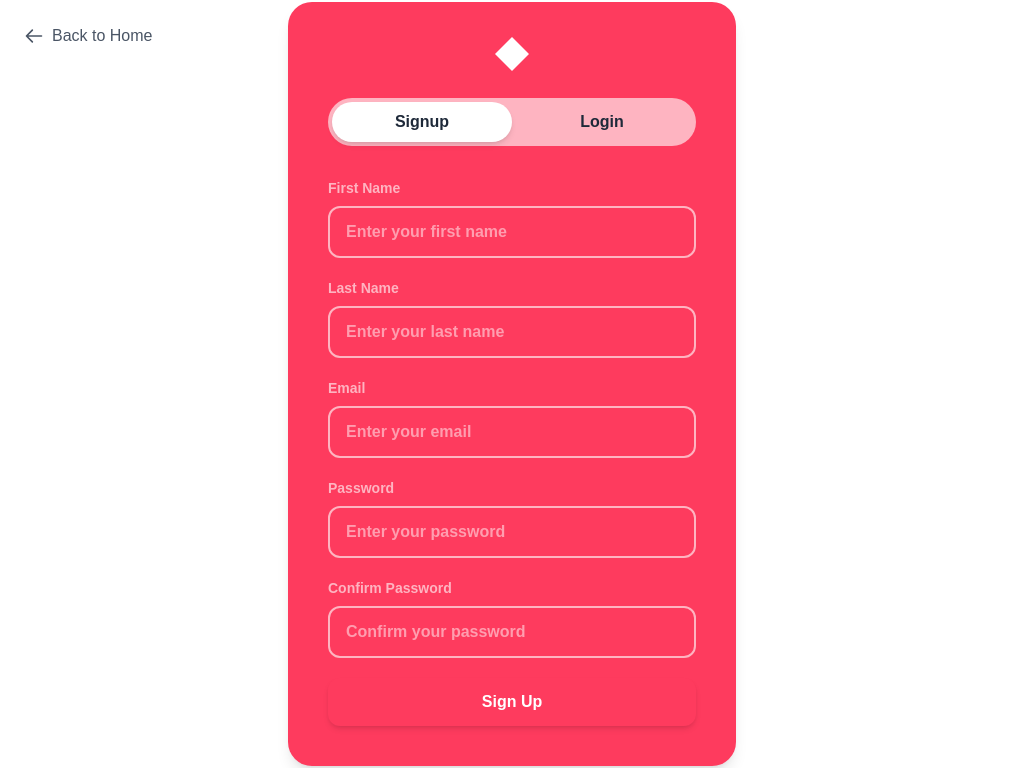
Test: RegisterPage › TC-083 [S-01]: on success, shows the confirmation message and a Verify My Email link
Type "Jane" into the field labelled "First Name" at [512, 232], box [328,206,696,258]
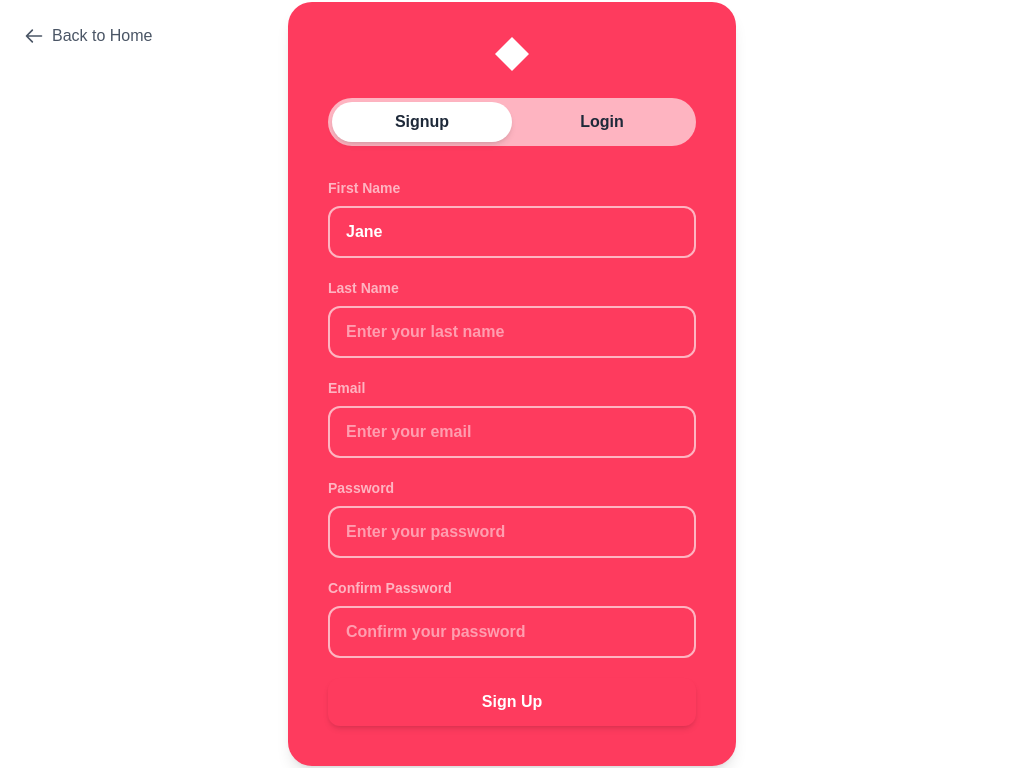
Type "Doe" into the field labelled "Last Name" at [512, 332], box [328,306,696,358]
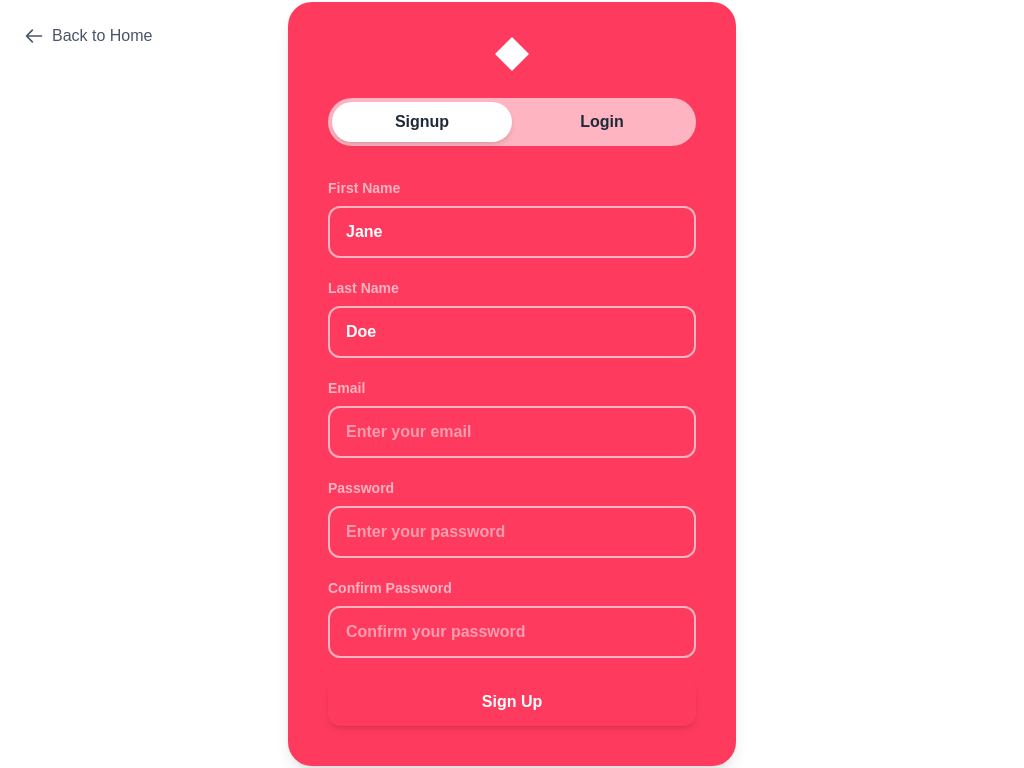
Type "jane@school.edu" into the field labelled "Email" at [512, 432], box [328,406,696,458]
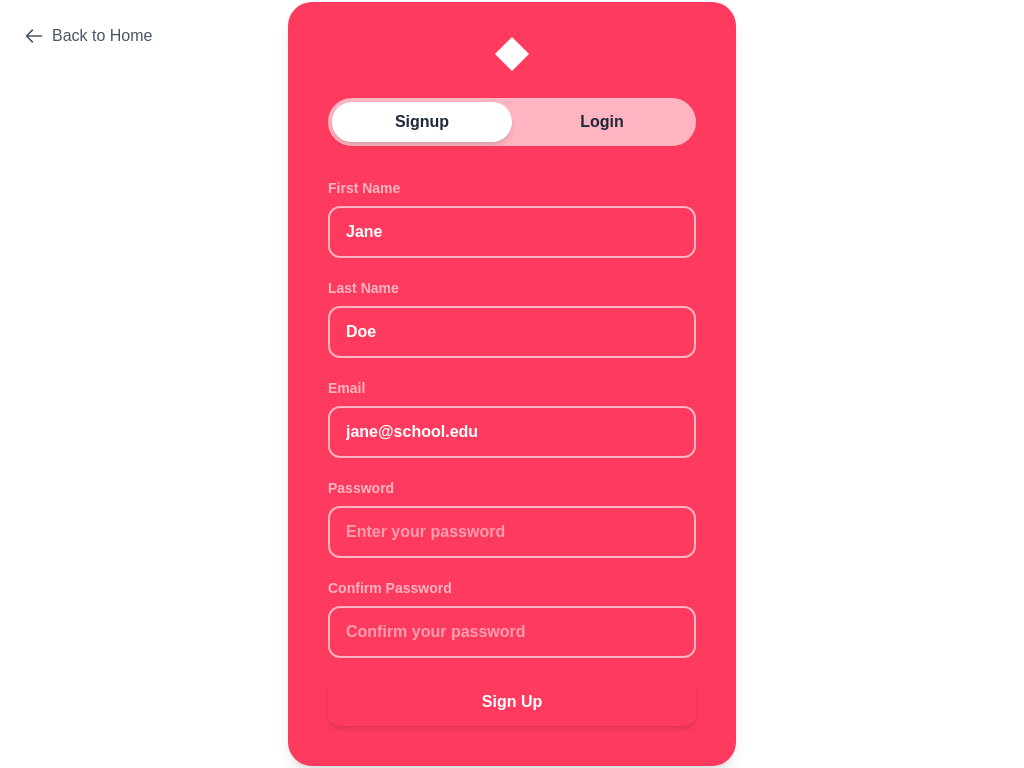
Type "Valid123!" into the password field labelled "Password" at [512, 532], box [328,506,696,558]
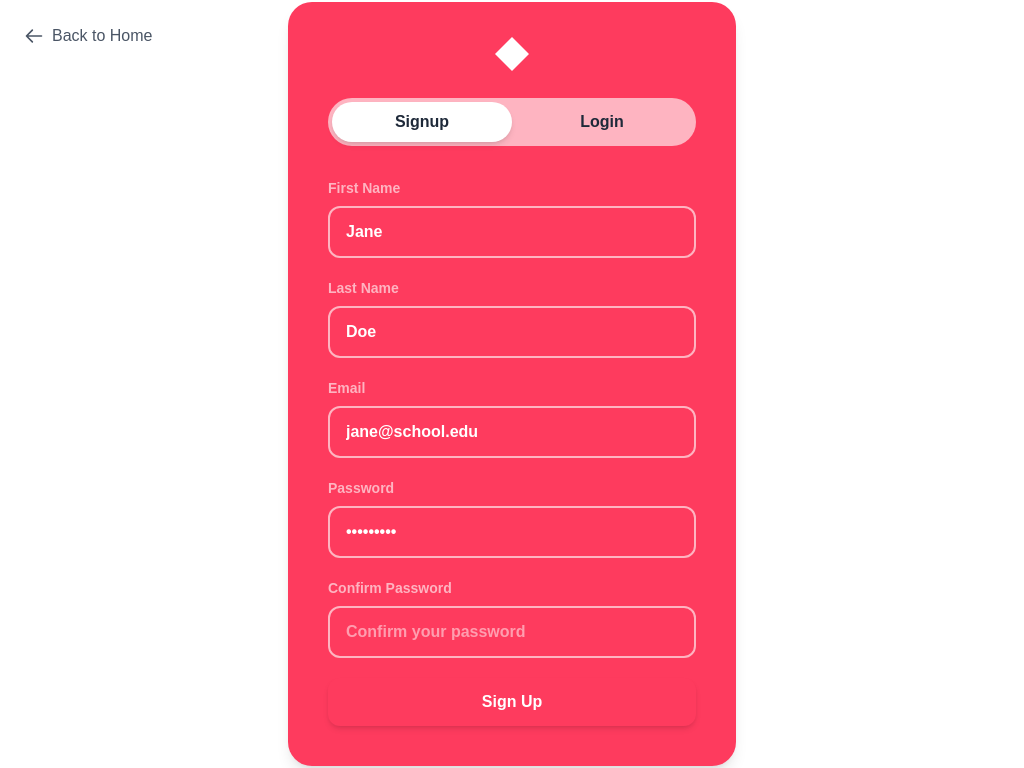
Type "Valid123!" into the password field labelled "Confirm Password" at [512, 632], box [328,606,696,658]
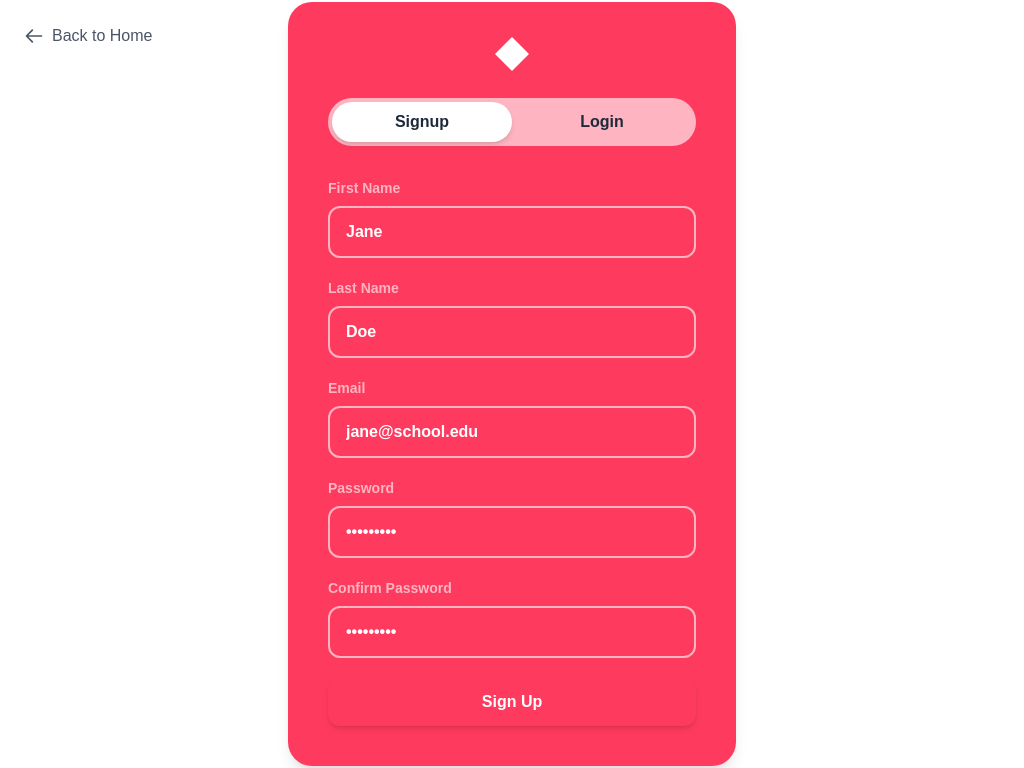
Click the button "Sign Up" at [512, 702], box [328,678,696,726]
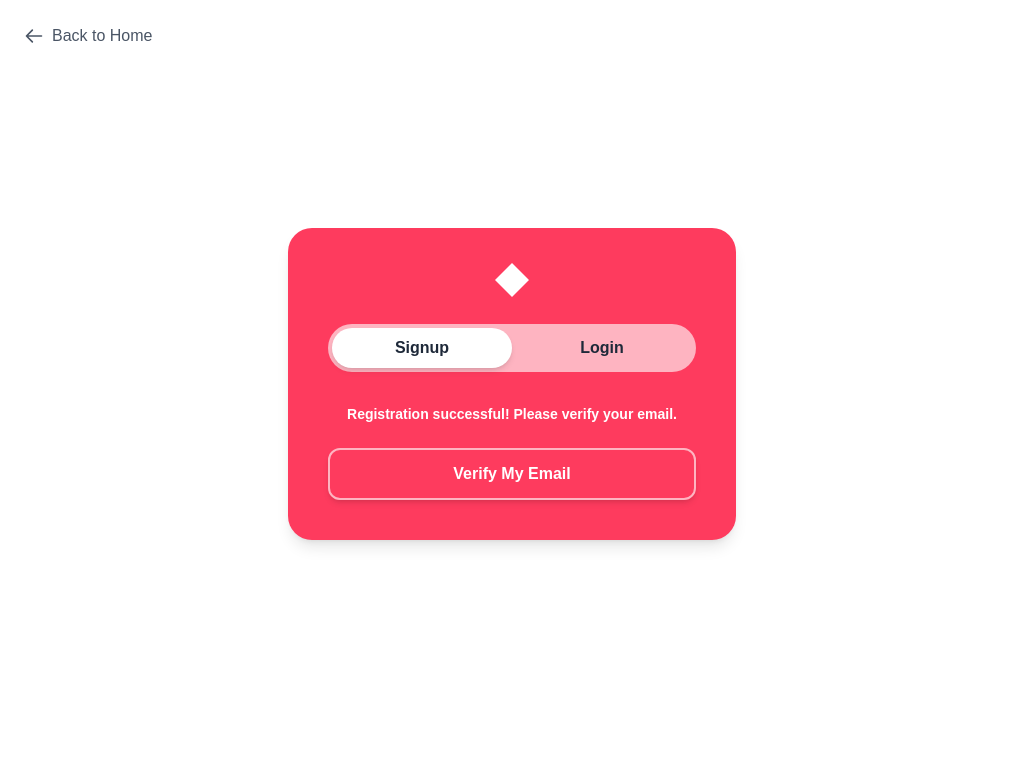
Expected: the text "Registration successful! Please verify your email." is shown, [328,404,696,424]
